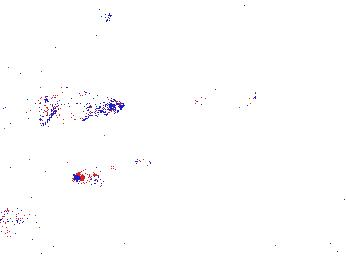red belly glassfish: (73, 157, 122, 187), (133, 150, 183, 168)
redtail glassfish: (36, 92, 124, 125), (172, 98, 247, 131), (190, 85, 270, 112)
